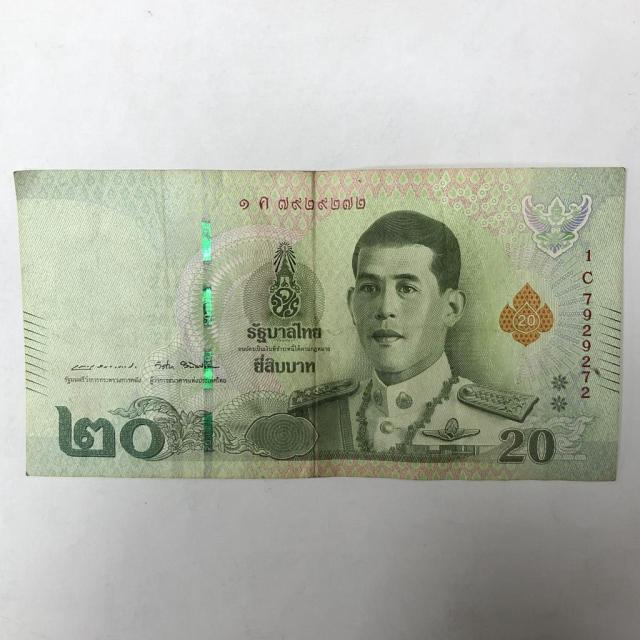THAI20: (12, 167, 628, 482)
